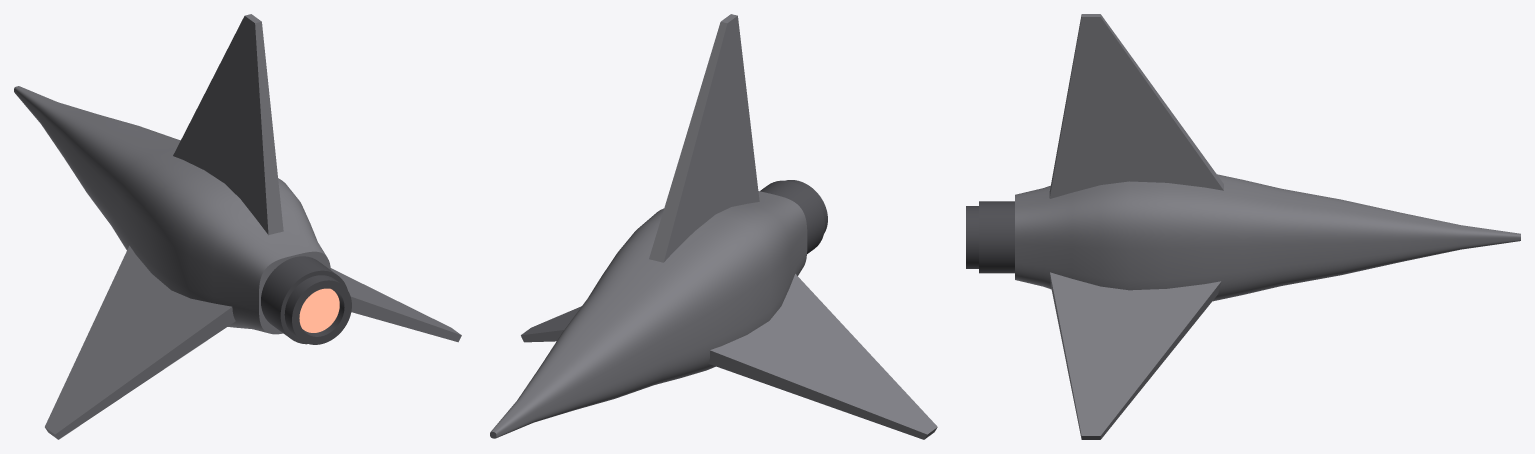
File: egret.glb
3 views of the same model, side by side, from view 1: azimuth 30°, elevation 25°; view 2: azimuth 150°, elevation 25°; view 3: azimuth 270°, elevation 25° (orthographic). The views are drawn at different scales.
Parts seen in each view (by area): view 1: egret_hull; view 2: egret_hull; view 3: egret_hull.
Boxes of the visible parts, <box> form: egret_hull: <box>14,14,461,439</box>; egret_hull: <box>490,14,937,439</box>; egret_hull: <box>966,14,1520,439</box>.
Size of the model in its own units: 157 by 136 by 204.
